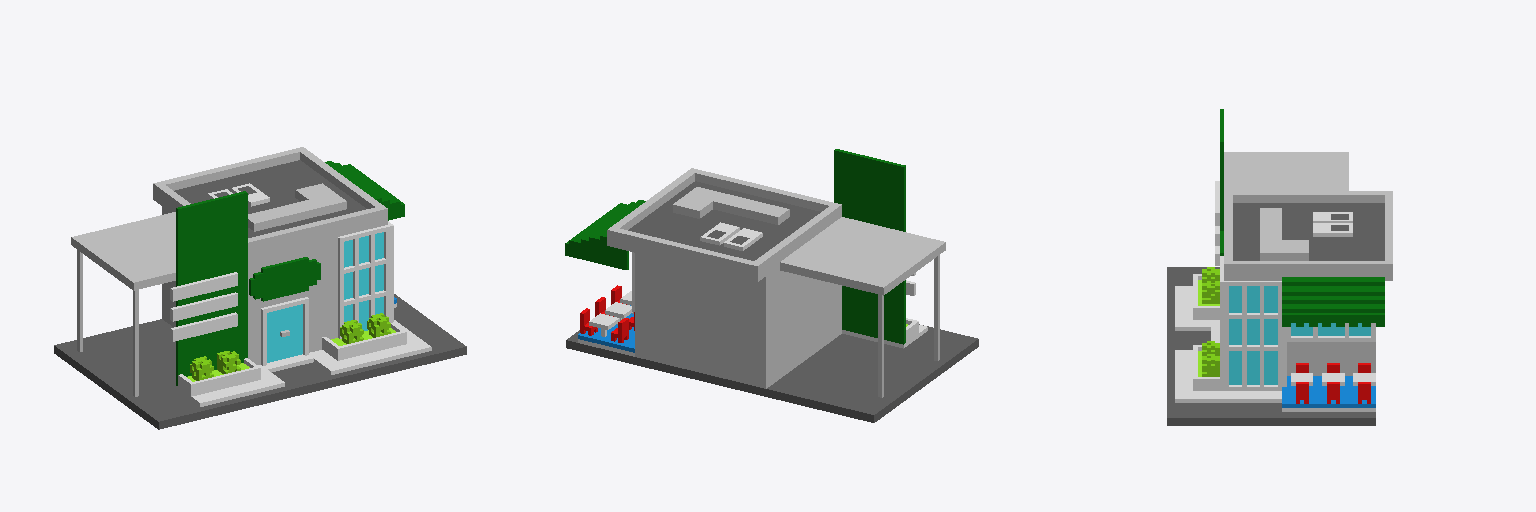
The picture shows the model from 3 angles: view 1: azimuth 30°, elevation 25°; view 2: azimuth 150°, elevation 25°; view 3: azimuth 270°, elevation 25°; orthographic projection.
Visible parts, largest first — view 1: sucursalTono; view 2: sucursalTono; view 3: sucursalTono.
Boxes of the visible parts, x1,y1,x2,y2 form: sucursalTono: [54, 147, 466, 429]; sucursalTono: [565, 149, 978, 422]; sucursalTono: [1167, 109, 1392, 425].
Size of the model in its own units: 80 by 47 by 51.
1 materials, 1 textured.